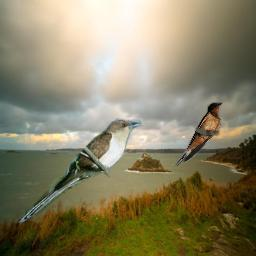Cuckoo: (15, 118, 145, 228)
Swallow: (173, 101, 223, 167)
